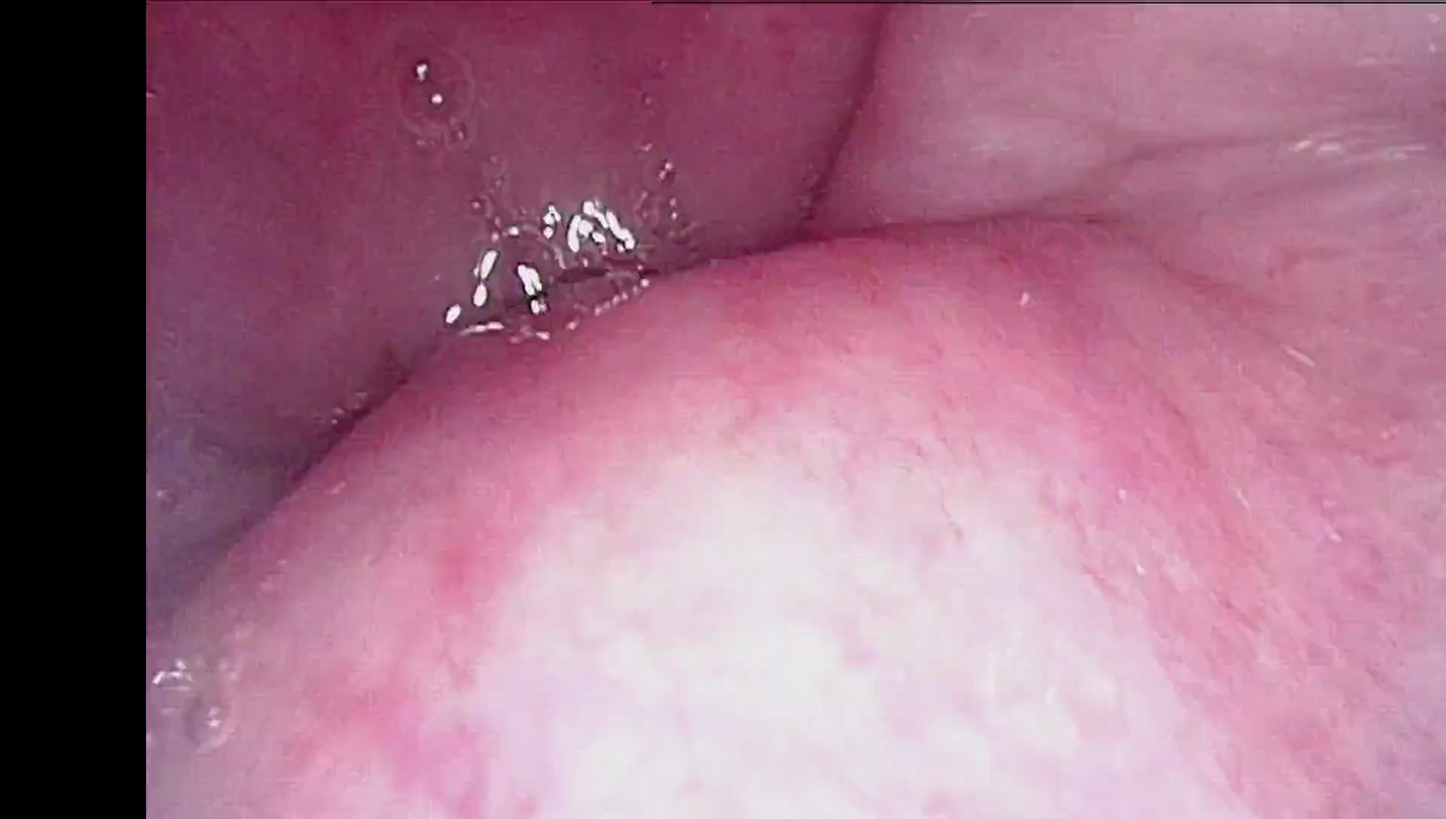close_wall: (435, 361, 1299, 819)
